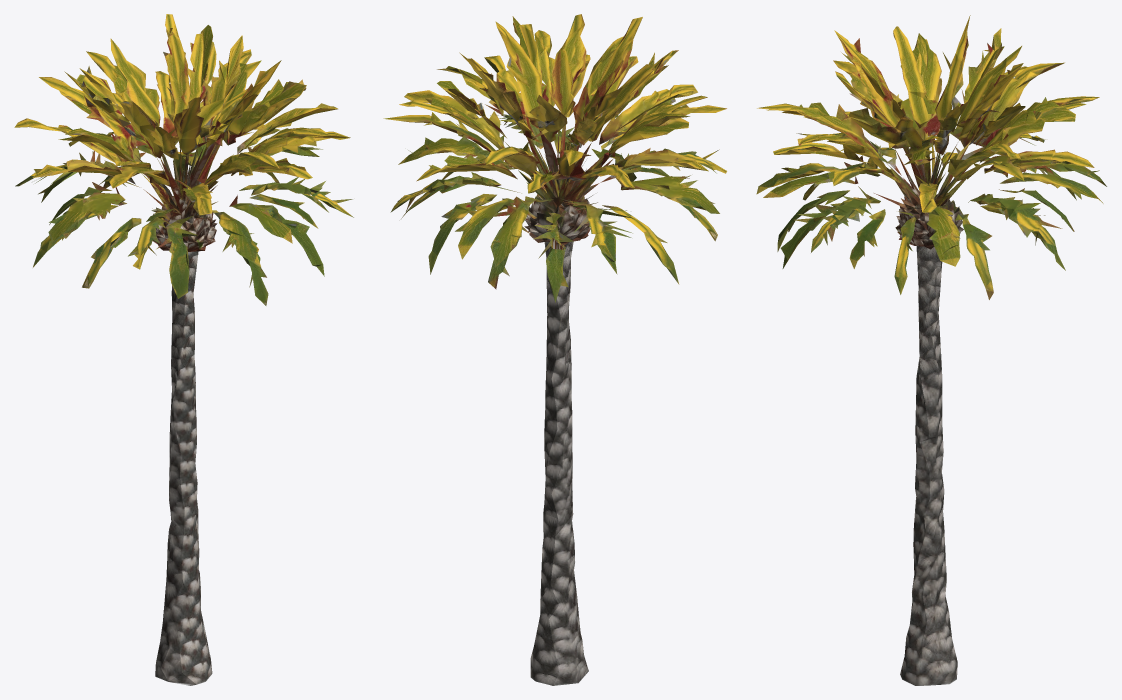
File: palm.glb
3 views of the same model, side by side, from view 1: azimuth 30°, elevation 25°; view 2: azimuth 150°, elevation 25°; view 3: azimuth 270°, elevation 25° (orthographic).
Bounding box in the file's own units: 0.962 × 1.9 × 0.9581.
Materials: 1 (1 with a texture image).
